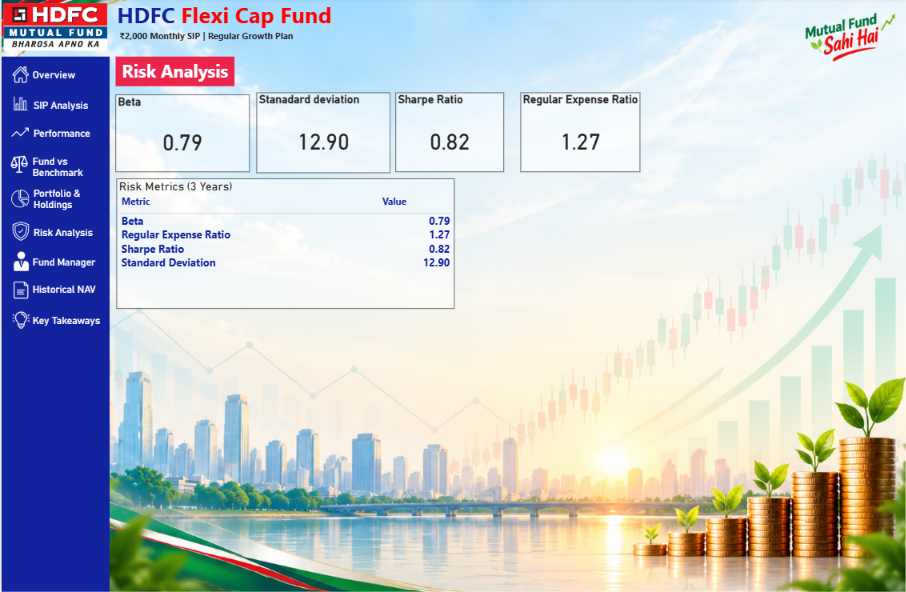

Layout of this report page (visuals, bound fields, positions):
{"tool":"powerbi","page":{"name":"Risk Aanlysis","canvas":[2200,1450],"ordinal":5},"visuals":[{"type":"tableEx","title":"Risk Metrics (3 Years)","fields":{"Values":["Risk_Stats.Metric","Sum(Risk_Stats.Value)"]},"box":[278.3,439.4,821.1,316.1],"z":0},{"type":"card","title":"Beta","fields":{"Values":["Sum(Risk_Stats.Value)"]},"box":[277.6,236.3,325.7,188],"z":1000},{"type":"card","title":"Stanadard deviation","fields":{"Values":["Sum(Risk_Stats.Value)"]},"box":[620.7,231.7,324.8,195.3],"z":2000},{"type":"card","title":"Sharpe Ratio","fields":{"Values":["Sum(Risk_Stats.Value)"]},"box":[958.2,231.2,263.6,193.1],"z":3000},{"type":"card","title":"Regular Expense Ratio","fields":{"Values":["Sum(Risk_Stats.Value)"]},"box":[1260.4,231.2,290.5,193.1],"z":4000},{"type":"textbox","box":[276.6,143.9,288.8,72.2],"z":5000},{"type":"shape","box":[0,143.1,262.4,1306.2],"z":6000},{"type":"image","box":[18.4,163.9,53.3,49.2],"z":7000},{"type":"image","box":[16.4,235.6,59.4,43],"z":8000},{"type":"image","box":[20.5,297.1,51.2,61.5],"z":9000},{"type":"image","box":[12.3,377,61.5,57.4],"z":10000},{"type":"image","box":[16.4,461,55.3,53.3],"z":11000},{"type":"image","box":[16.4,532.7,59.4,69.7],"z":12000},{"type":"image","box":[18.4,612.6,57.4,57.4],"z":13000},{"type":"image","box":[22.5,686.3,55.3,51.2],"z":14000},{"type":"image","box":[22.5,756,51.2,55.3],"z":15000},{"type":"actionButton","title":"Performance","box":[77.6,315.6,167.7,61.3],"z":16000},{"type":"actionButton","title":"Fund vs Benchmark","box":[76.2,383.3,169.4,76.2],"z":17000},{"type":"actionButton","title":"Portfolio &  Holdings","box":[77.9,461,184.4,71.7],"z":18000},{"type":"actionButton","title":"Risk Analysis","box":[77.6,555.5,167.7,64.9],"z":19000},{"type":"actionButton","title":"SIP Analysis","box":[77.9,247.9,168,61.5],"z":20000},{"type":"actionButton","title":"Fund Manager","box":[75.8,629,172.1,57.4],"z":21000},{"type":"actionButton","title":"Historical NAV","box":[75.8,694.5,178.2,79.9],"z":22000},{"type":"actionButton","title":"Key Takeaways","box":[75.8,770.3,188.5,63.5],"z":23000},{"type":"textbox","box":[262.5,0,557.5,81.7],"z":24000},{"type":"textbox","box":[282.5,72.5,457.5,38.8],"z":25000},{"type":"image","box":[0,0,262.1,142.8],"z":26000},{"type":"actionButton","title":"Overview","box":[75.5,173,133.2,63.6],"z":27000}]}

Visuals, with their boxes in screenshot pixels (x1, y1, x2, y2), scaled from the page's 2200x1450 canvas onto the 906x592 screenshot:
"Risk Metrics (3 Years)" tableEx: pyautogui.locateOnScreen(115, 179, 453, 308)
"Beta" card: pyautogui.locateOnScreen(114, 96, 248, 173)
"Stanadard deviation" card: pyautogui.locateOnScreen(256, 95, 389, 174)
"Sharpe Ratio" card: pyautogui.locateOnScreen(395, 94, 503, 173)
"Regular Expense Ratio" card: pyautogui.locateOnScreen(519, 94, 639, 173)
textbox: pyautogui.locateOnScreen(114, 59, 233, 88)
shape: pyautogui.locateOnScreen(0, 58, 108, 591)
image: pyautogui.locateOnScreen(8, 67, 30, 87)
image: pyautogui.locateOnScreen(7, 96, 31, 114)
image: pyautogui.locateOnScreen(8, 121, 30, 146)
image: pyautogui.locateOnScreen(5, 154, 30, 177)
image: pyautogui.locateOnScreen(7, 188, 30, 210)
image: pyautogui.locateOnScreen(7, 217, 31, 246)
image: pyautogui.locateOnScreen(8, 250, 31, 274)
image: pyautogui.locateOnScreen(9, 280, 32, 301)
image: pyautogui.locateOnScreen(9, 309, 30, 331)
"Performance" actionButton: pyautogui.locateOnScreen(32, 129, 101, 154)
"Fund vs Benchmark" actionButton: pyautogui.locateOnScreen(31, 156, 101, 188)
"Portfolio &  Holdings" actionButton: pyautogui.locateOnScreen(32, 188, 108, 217)
"Risk Analysis" actionButton: pyautogui.locateOnScreen(32, 227, 101, 253)
"SIP Analysis" actionButton: pyautogui.locateOnScreen(32, 101, 101, 126)
"Fund Manager" actionButton: pyautogui.locateOnScreen(31, 257, 102, 280)
"Historical NAV" actionButton: pyautogui.locateOnScreen(31, 284, 105, 316)
"Key Takeaways" actionButton: pyautogui.locateOnScreen(31, 314, 109, 340)
textbox: pyautogui.locateOnScreen(108, 0, 338, 33)
textbox: pyautogui.locateOnScreen(116, 30, 305, 45)
image: pyautogui.locateOnScreen(0, 0, 108, 58)
"Overview" actionButton: pyautogui.locateOnScreen(31, 71, 86, 97)
